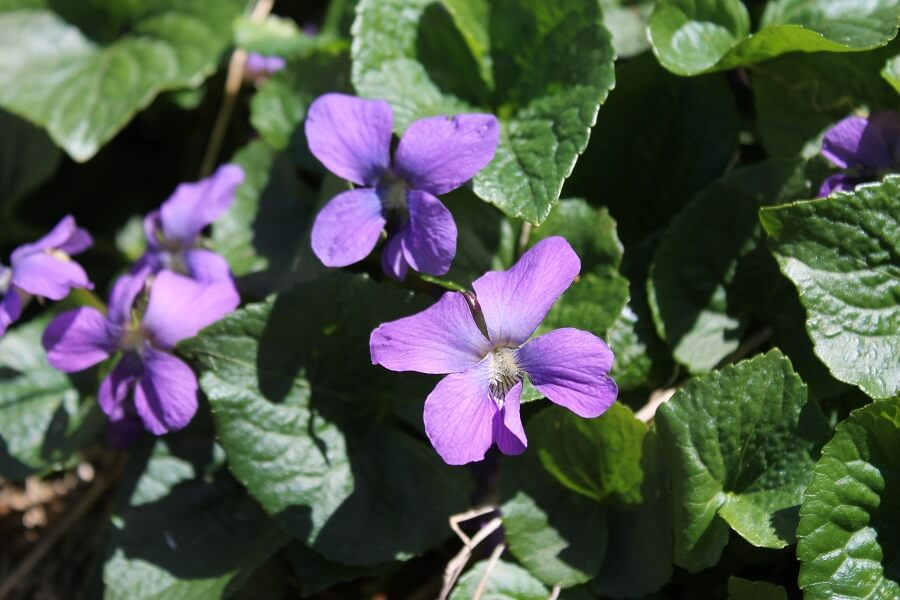violet: (349, 242, 619, 477), (286, 84, 496, 286), (55, 277, 249, 439)
